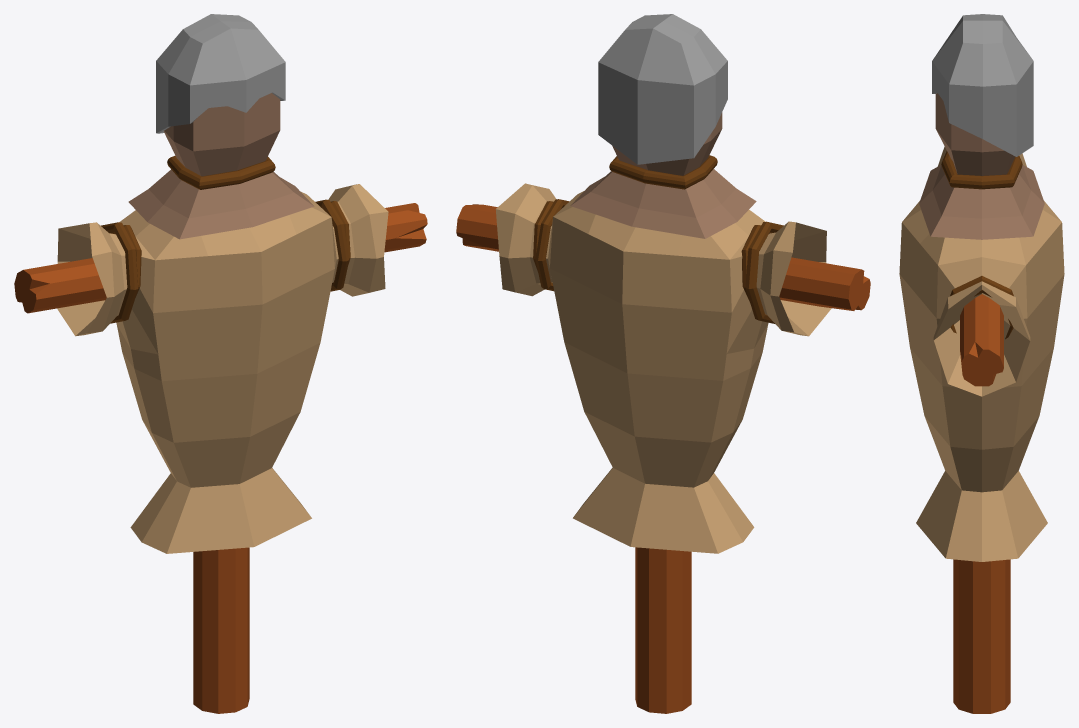
File: dummy_man.fbx
3 views of the same model, side by side, from view 1: azimuth 30°, elevation 25°; view 2: azimuth 150°, elevation 25°; view 3: azimuth 270°, elevation 25° (orthographic).
Parts seen in each view (by area): view 1: Cube.021; view 2: Cube.021; view 3: Cube.021.
Part boxes in pixels (x1,y1,x2,y2): Cube.021: [14, 14, 427, 713]; Cube.021: [456, 14, 870, 713]; Cube.021: [899, 14, 1064, 713].
Bounding box in the file's own units: 3.5 × 5.77 × 1.27.
